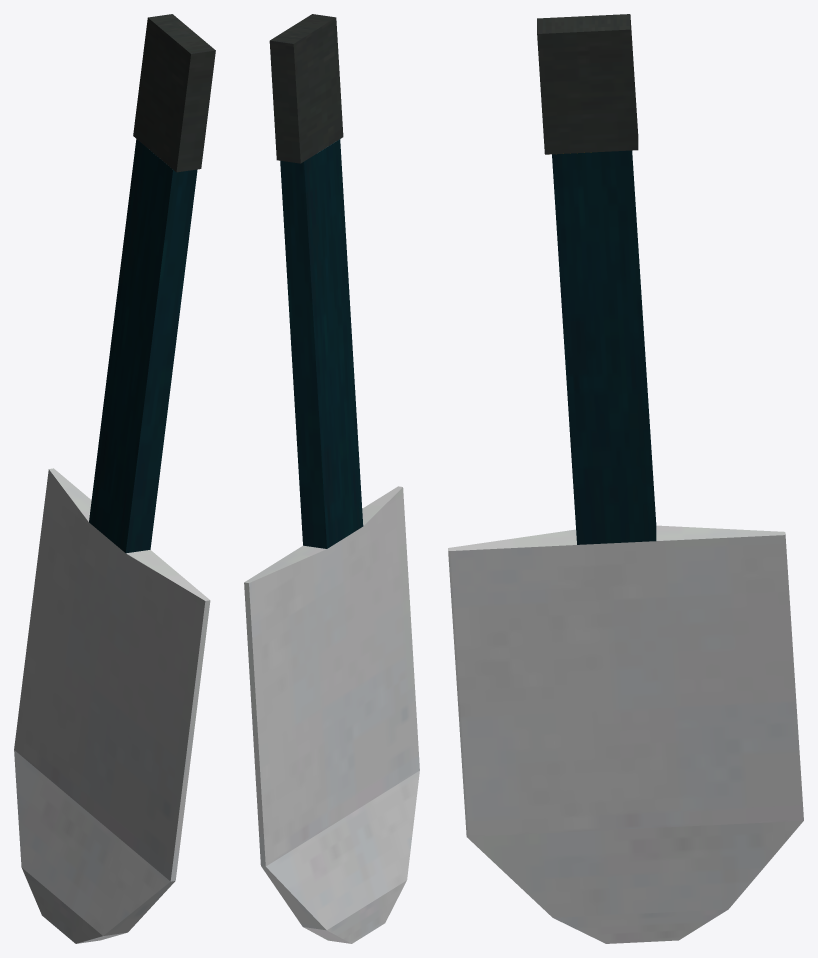
Rendered from BLOCKYGON_BEACH SHOVEL.fbx.
The picture shows the model from 3 angles, left to right: view 1: azimuth 30°, elevation 25°; view 2: azimuth 150°, elevation 25°; view 3: azimuth 270°, elevation 25°; orthographic projection. The views are drawn at different scales.
Visible parts, largest first — view 1: BLOCKYGON_BEACH_SHOVEL; view 2: BLOCKYGON_BEACH_SHOVEL; view 3: BLOCKYGON_BEACH_SHOVEL.
Part boxes in pixels (<box>): BLOCKYGON_BEACH_SHOVEL: <box>14,14,215,943</box>; BLOCKYGON_BEACH_SHOVEL: <box>244,14,419,943</box>; BLOCKYGON_BEACH_SHOVEL: <box>448,14,803,943</box>.
Bounding box in the file's own units: 21.82 × 174 × 58.25.
